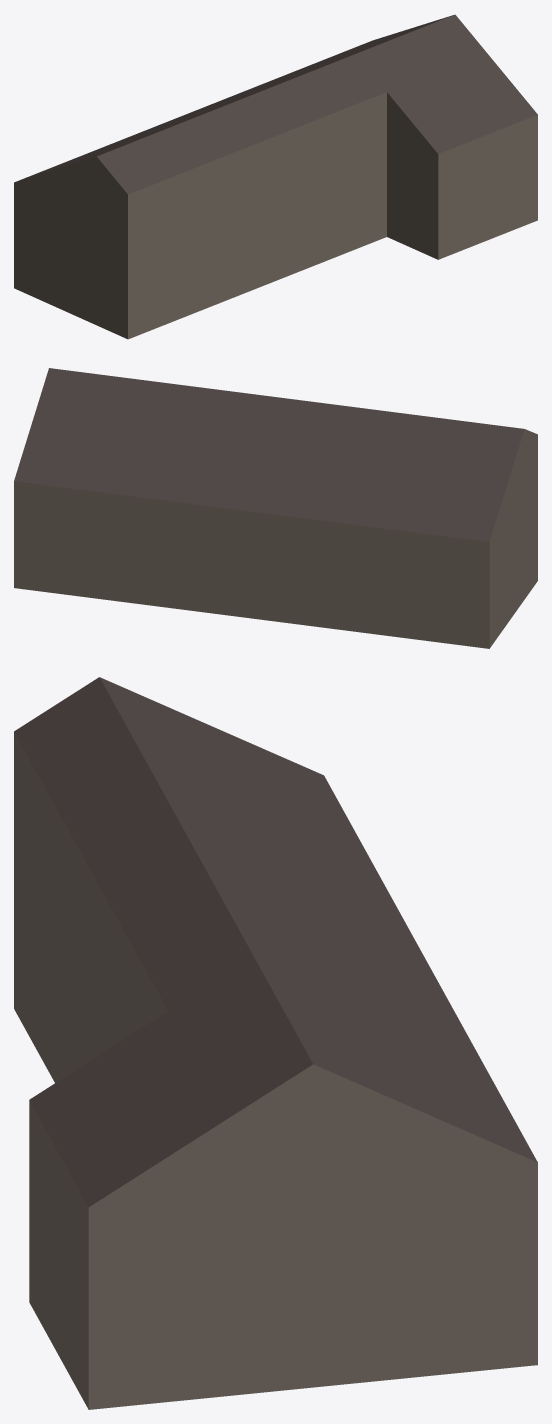
3 renders of one model, top to bottom at view 1: azimuth 30°, elevation 25°; view 2: azimuth 150°, elevation 25°; view 3: azimuth 270°, elevation 25°, orthographic. The views are drawn at different scales.
Visible parts, largest first — view 1: HP-w1200835401; view 2: HP-w1200835401; view 3: HP-w1200835401.
Part boxes in pixels (x1=…): HP-w1200835401: x1=14, y1=14, x2=537, y2=339; HP-w1200835401: x1=14, y1=368, x2=537, y2=648; HP-w1200835401: x1=14, y1=677, x2=537, y2=1409.
Size of the model in its own units: 27.45 by 9.58 by 14.07.
